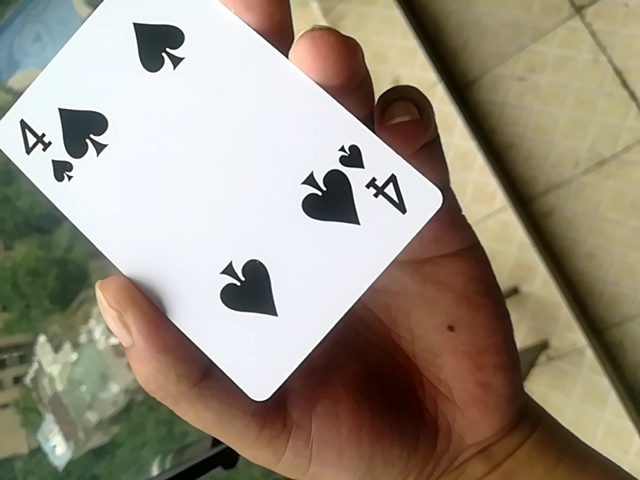ht 4: (4, 1, 445, 413)
